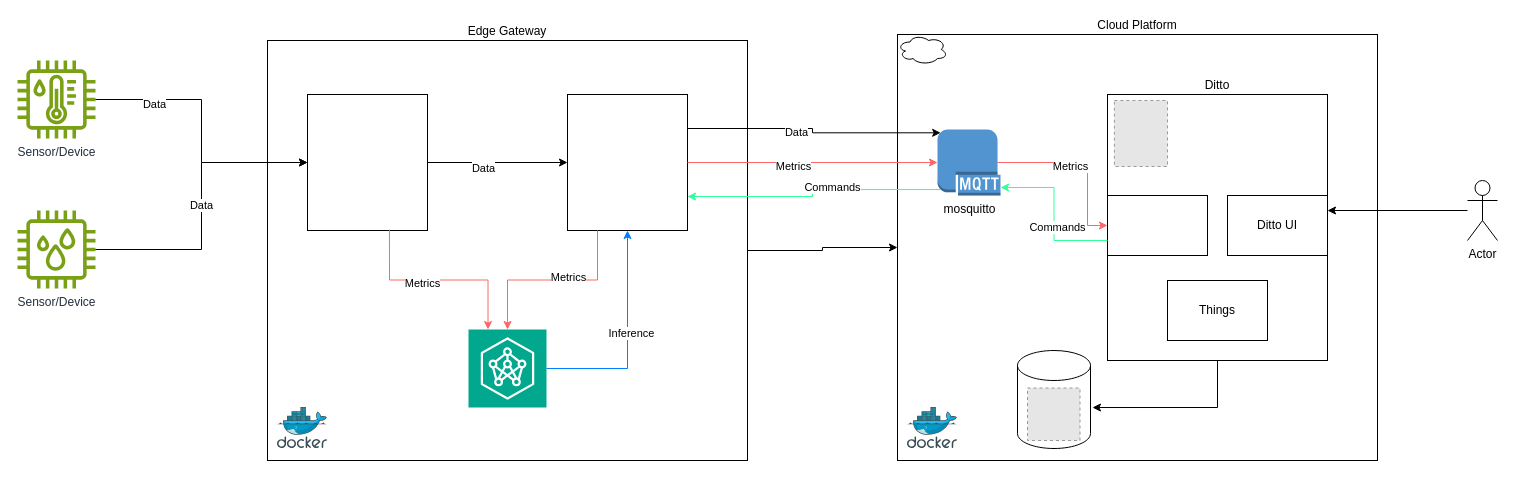
The diagram is 1515 pixels wide and 478 high, and some of its shapes have lost their labels. Grey dashed boxes stand in for pictures. Each missing label, with the centre of its shape:
"Connectivity" goes at [1157,225].
"Driver" goes at [367,162].
"Throughput Dispatcher" goes at [627,162].
"tinyML Model" goes at [507,368].
